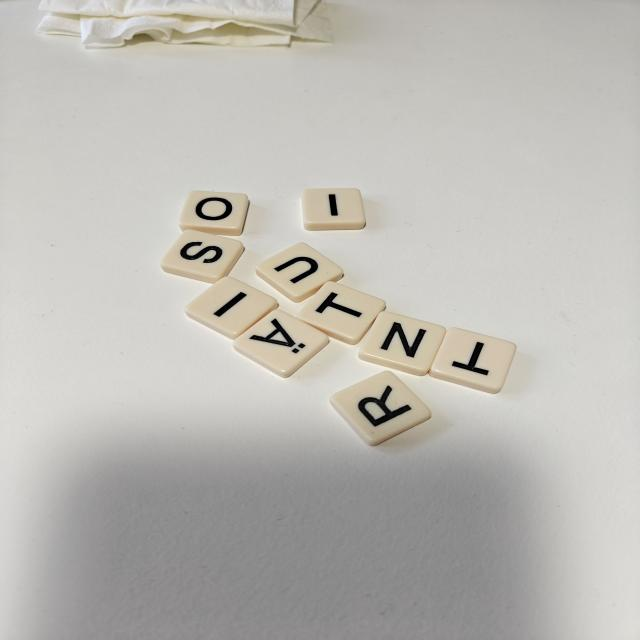a_dot: (233, 310, 329, 377)
i: (185, 276, 278, 339), (302, 188, 365, 230)
n: (359, 311, 446, 375)
o: (179, 191, 249, 236)
r: (330, 371, 431, 446)
s: (161, 230, 243, 283)
t: (429, 328, 516, 393), (297, 281, 385, 344)
u: (256, 242, 343, 302)
